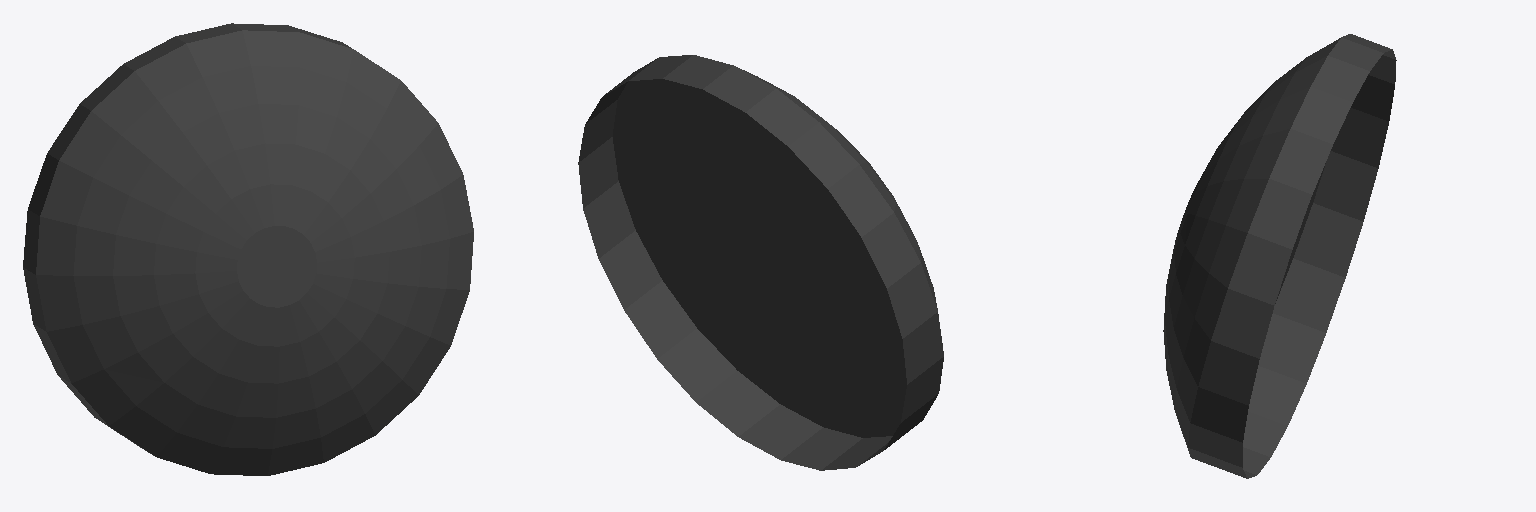
File: original-25.obj
3 renders of one model, left to right at view 1: azimuth 30°, elevation 25°; view 2: azimuth 150°, elevation 25°; view 3: azimuth 270°, elevation 25°, orthographic.
Visible parts, largest first — view 1: group_9/ID126#ID126; view 2: group_9/ID126#ID126; view 3: group_9/ID126#ID126.
Part boxes in pixels (x1,y1,x2,y2): group_9/ID126#ID126: (23,23,473,475); group_9/ID126#ID126: (578,55,943,470); group_9/ID126#ID126: (1163,34,1396,478).
Size of the model in its own units: 0.0261 by 0.0263 by 0.0135.